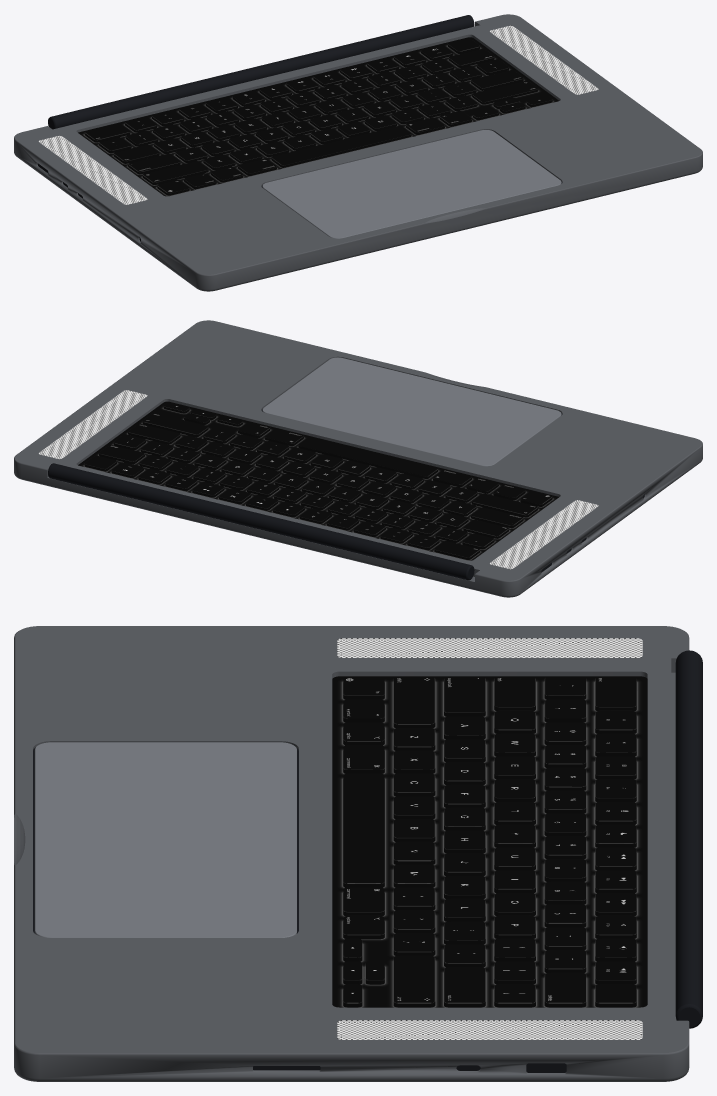
Rendered from macbook-base.glb.
3 views of the same model, one above another, from view 1: azimuth 30°, elevation 25°; view 2: azimuth 150°, elevation 25°; view 3: azimuth 270°, elevation 25° (orthographic). The views are drawn at different scales.
Parts seen in each view (by area): view 1: macbook-base; view 2: macbook-base; view 3: macbook-base.
Part boxes in pixels (x1=…): macbook-base: x1=14, y1=14, x2=702, y2=291; macbook-base: x1=14, y1=320, x2=702, y2=597; macbook-base: x1=14, y1=626, x2=702, y2=1081.
Bounding box in the file's own units: 0.78 × 0.0405 × 0.5305.
Materials: 6 (2 with a texture image).
